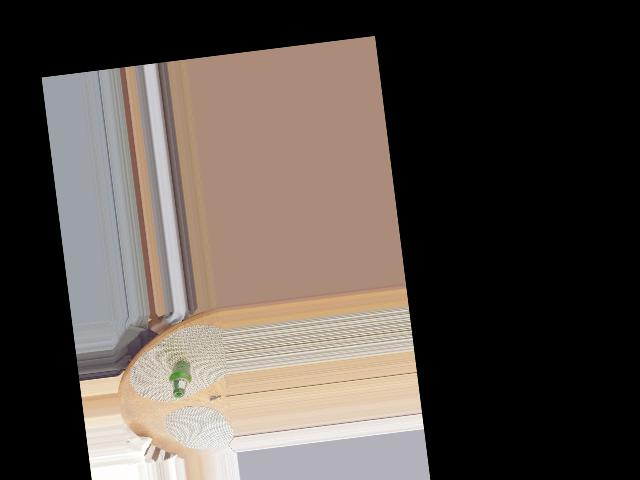beer: (166, 359, 193, 398)
